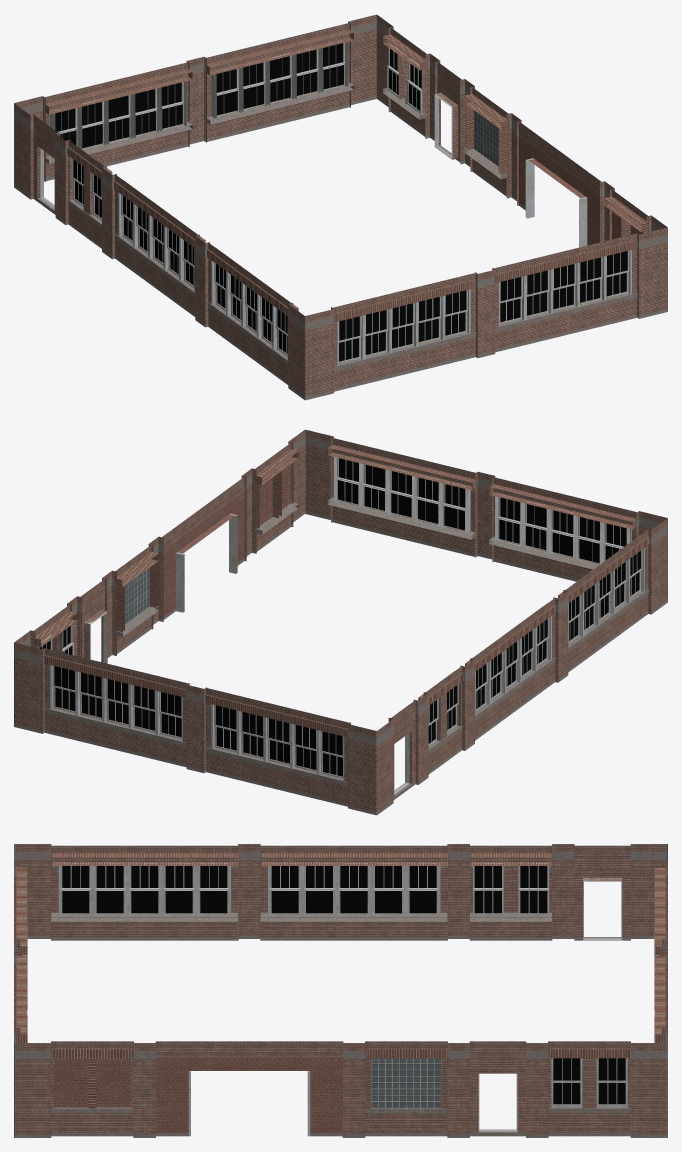
File: BuildingE_Bottom_Shell_VarA.fbx
The picture shows the model from 3 angles, top to bottom: view 1: azimuth 30°, elevation 25°; view 2: azimuth 150°, elevation 25°; view 3: azimuth 270°, elevation 25°; orthographic projection. The views are drawn at different scales.
Visible parts, largest first — view 1: BuildingE_Bottom_Shell_VarA; view 2: BuildingE_Bottom_Shell_VarA; view 3: BuildingE_Bottom_Shell_VarA.
Part boxes in pixels (x1=…): BuildingE_Bottom_Shell_VarA: x1=14, y1=14, x2=667, y2=400; BuildingE_Bottom_Shell_VarA: x1=14, y1=429, x2=667, y2=815; BuildingE_Bottom_Shell_VarA: x1=14, y1=844, x2=667, y2=1137.
Bounding box in the file's own units: 1800 × 400 × 2500.
